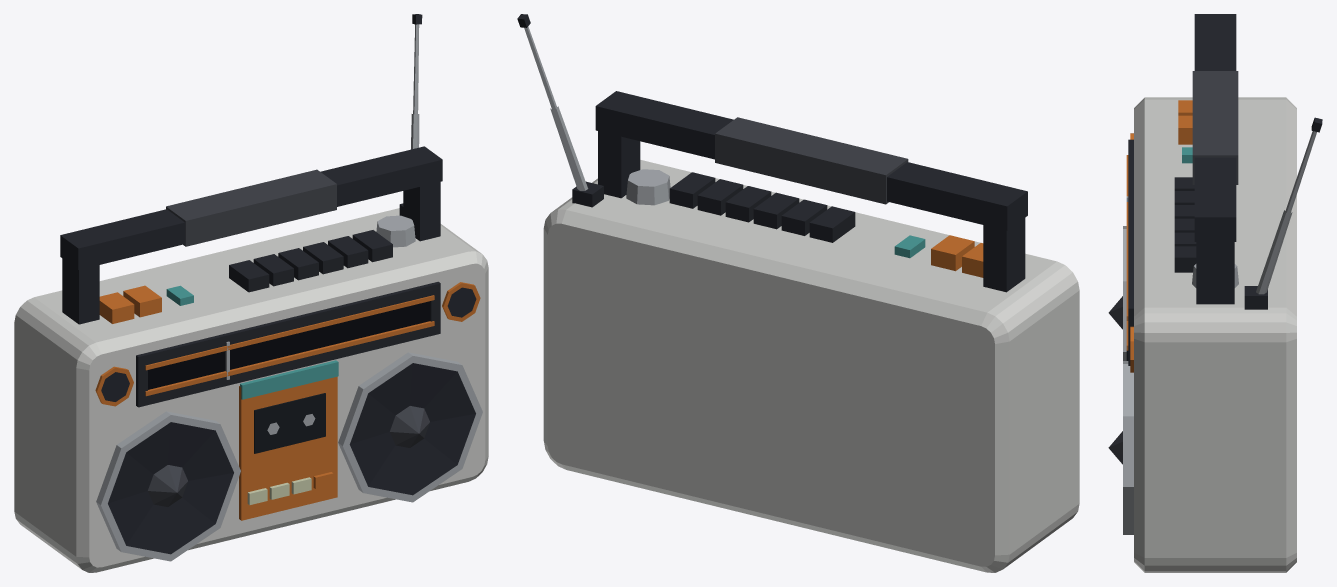
The model's file is boombox.glb.
3 views of the same model, side by side, from view 1: azimuth 30°, elevation 25°; view 2: azimuth 150°, elevation 25°; view 3: azimuth 270°, elevation 25° (orthographic). The views are drawn at different scales.
Visible parts, largest first — view 1: body, handle-mesh; view 2: body, handle-mesh; view 3: body, handle-mesh.
Part boxes in pixels (x1,y1,x2,y2): body: [14, 14, 488, 572]; handle-mesh: [60, 146, 442, 324]; body: [517, 14, 1079, 572]; handle-mesh: [595, 91, 1027, 292]; body: [1108, 97, 1322, 572]; handle-mesh: [1192, 14, 1238, 304].
Bounding box in the file's own units: 0.6114 × 0.5658 × 0.236.
